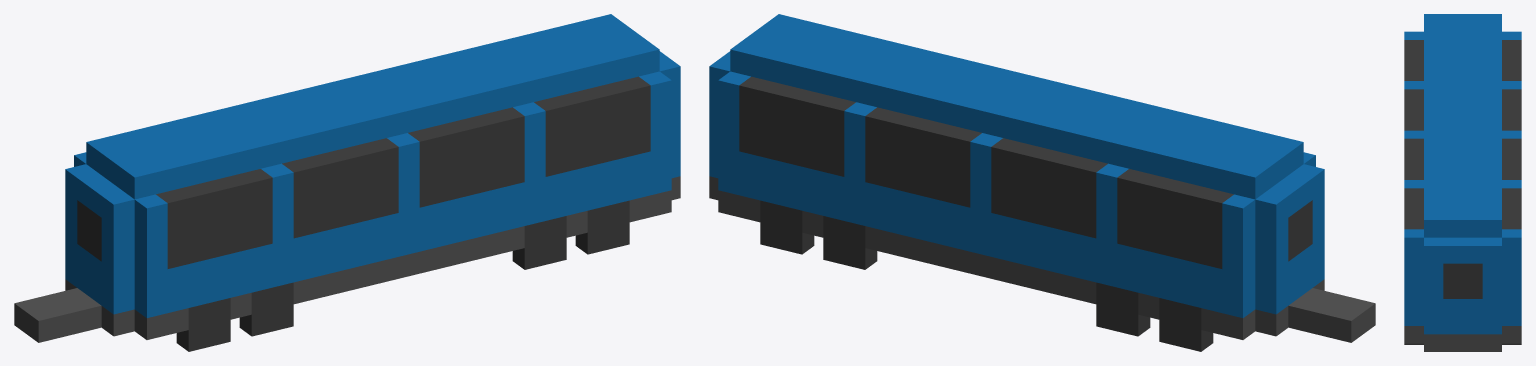
File: train-trailer-v2-blue.gltf
3 renders of one model, left to right at view 1: azimuth 30°, elevation 25°; view 2: azimuth 150°, elevation 25°; view 3: azimuth 270°, elevation 25°, orthographic. The views are drawn at different scales.
Parts seen in each view (by area): view 1: model, wheels; view 2: model, wheels; view 3: model.
Part boxes in pixels (<box>): model: <box>14,14,680,342</box>; wheels: <box>176,200,629,351</box>; model: <box>709,14,1375,342</box>; wheels: <box>760,200,1213,351</box>; model: <box>1404,14,1521,351</box>.
Size of the model in its own units: 3 by 0.8 by 0.6.
Materials: 2 (2 with a texture image).
